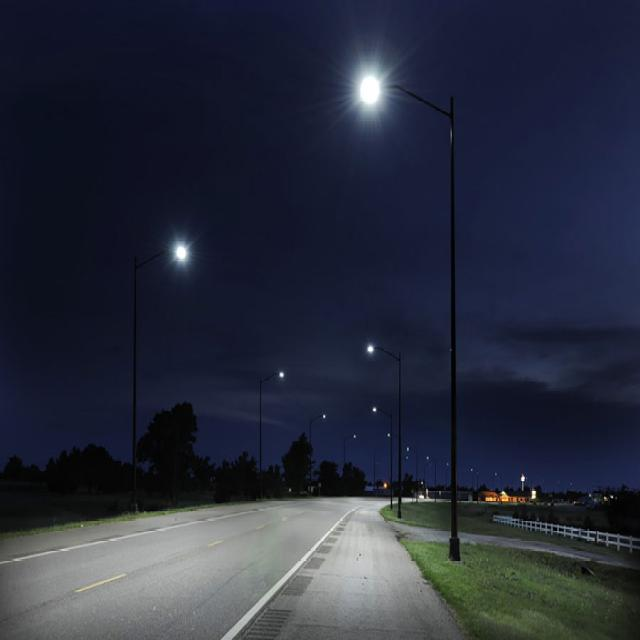Street Light: (359, 76, 462, 560), (130, 242, 188, 512), (366, 343, 403, 518), (258, 371, 283, 499), (308, 414, 326, 494), (342, 432, 356, 491)
